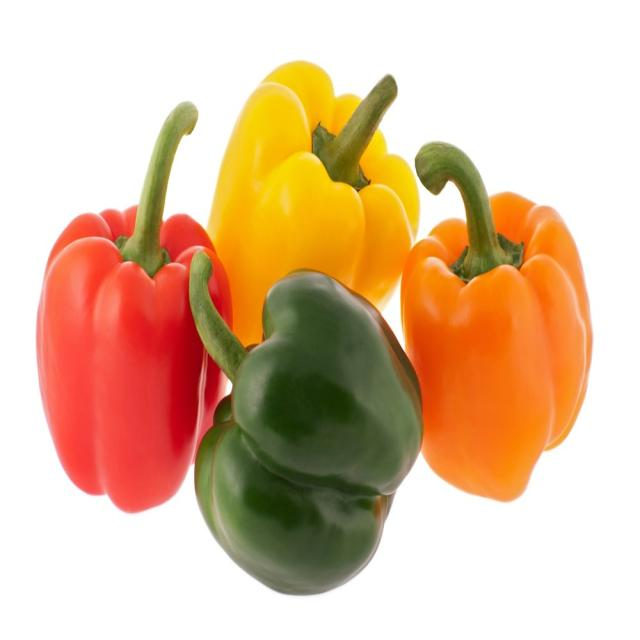Bell pepper: (188, 198, 428, 604), (23, 66, 220, 548), (184, 38, 439, 358), (399, 101, 592, 520)
